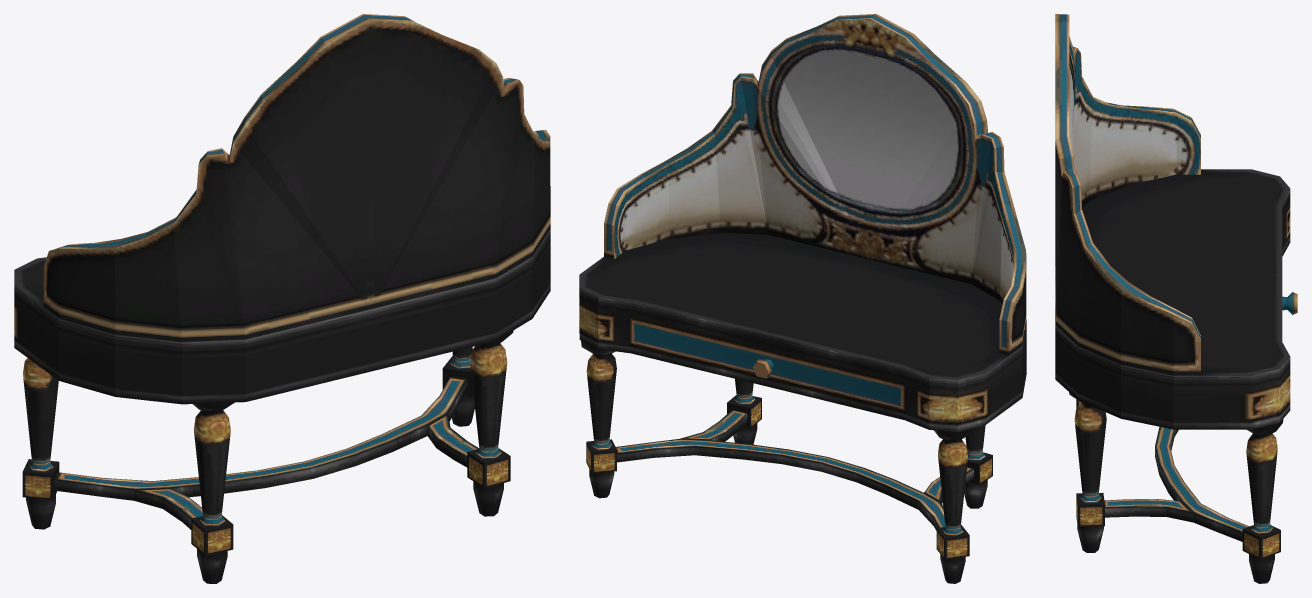
The model's file is furni_0201217_01.FBX.
3 views of the same model, side by side, from view 1: azimuth 30°, elevation 25°; view 2: azimuth 150°, elevation 25°; view 3: azimuth 270°, elevation 25° (orthographic). The views are drawn at different scales.
Visible parts, largest first — view 1: furni_0201217_01; view 2: furni_0201217_01; view 3: furni_0201217_01.
Boxes of the visible parts, <box> form: furni_0201217_01: <box>14,14,550,583</box>; furni_0201217_01: <box>579,14,1026,583</box>; furni_0201217_01: <box>1055,14,1297,583</box>.
Size of the model in its own units: 161 by 172 by 80.23.
